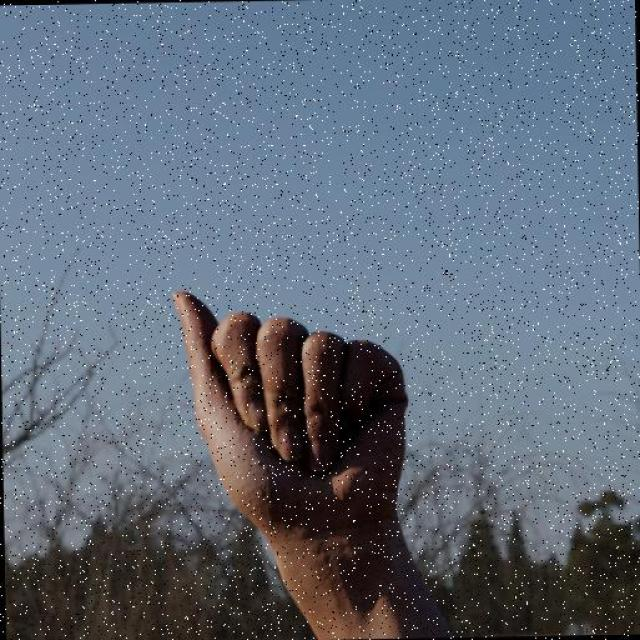A: (170, 284, 415, 538)
